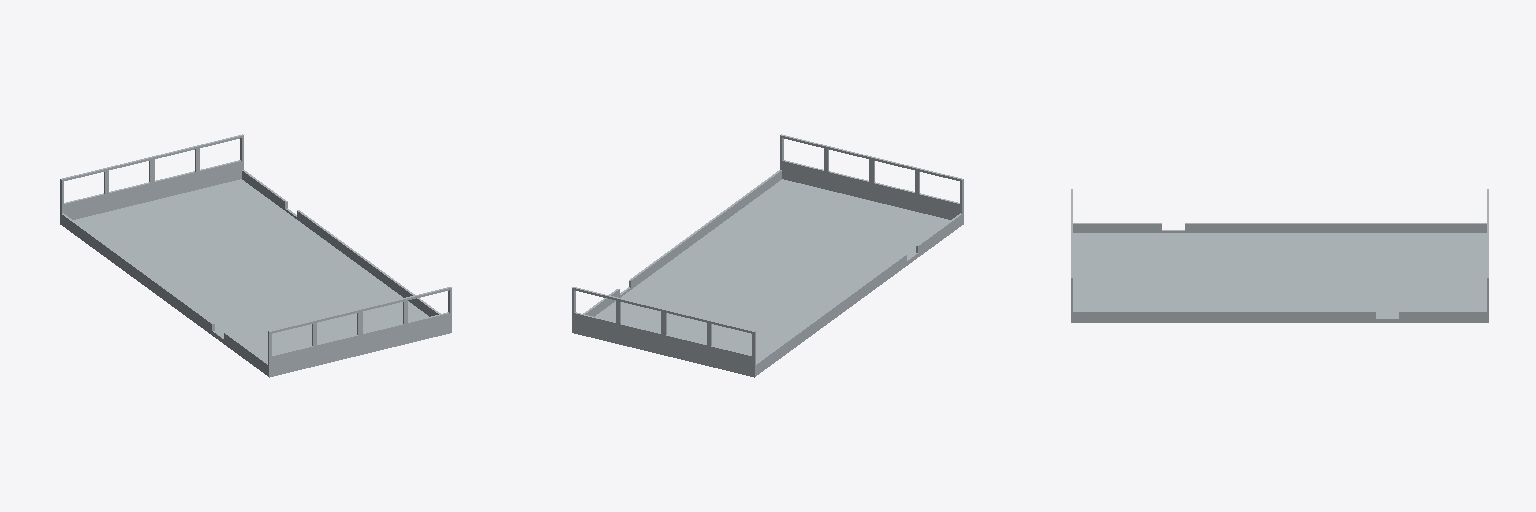
Rendered from Field.obj.
3 renders of one model, left to right at view 1: azimuth 30°, elevation 25°; view 2: azimuth 150°, elevation 25°; view 3: azimuth 270°, elevation 25°, orthographic.
Visible parts, largest first — view 1: obj_0; view 2: obj_0; view 3: obj_0.
Part boxes in pixels (x1,y1,x2,y2): obj_0: (60, 134, 451, 377); obj_0: (572, 134, 963, 377); obj_0: (1071, 189, 1488, 322).
Bounding box in the file's own units: 8.4 × 2 × 16.7.